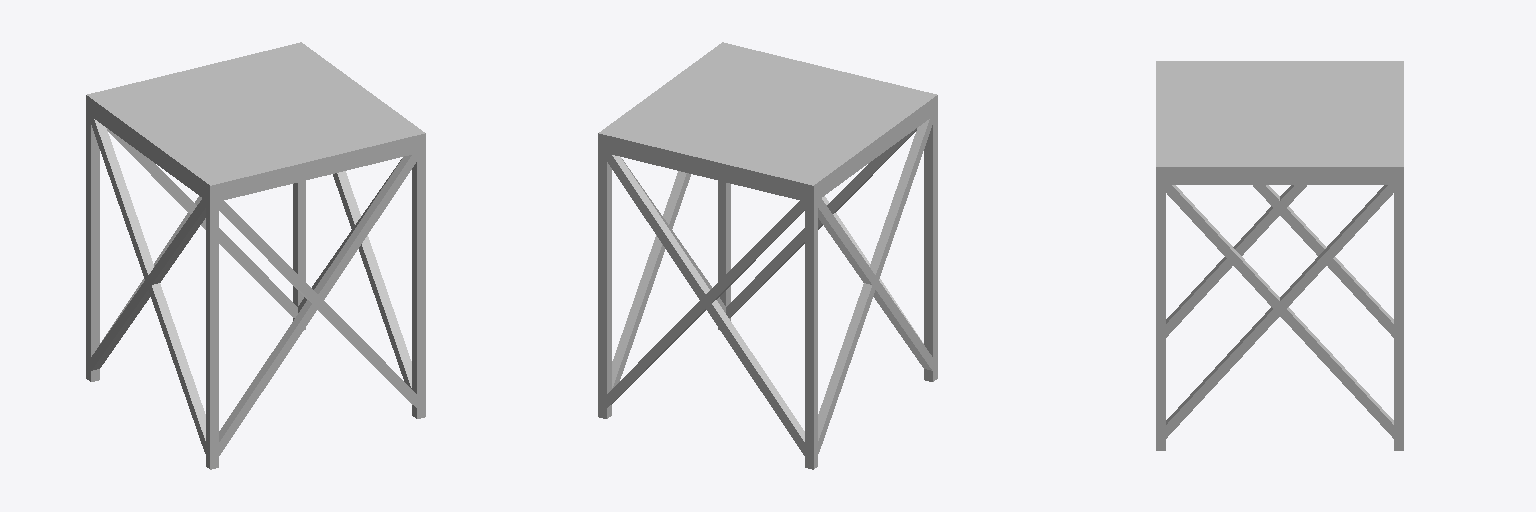
Rendered from Platfor_2lvl.obj.
3 views of the same model, side by side, from view 1: azimuth 30°, elevation 25°; view 2: azimuth 150°, elevation 25°; view 3: azimuth 270°, elevation 25° (orthographic).
Visible parts, largest first — view 1: pCube19; view 2: pCube19; view 3: pCube19.
Boxes of the visible parts, <box> form: pCube19: <box>86,42,425,469</box>; pCube19: <box>598,42,937,469</box>; pCube19: <box>1156,61,1403,450</box>.
Bounding box in the file's own units: 25 × 31.5 × 25.